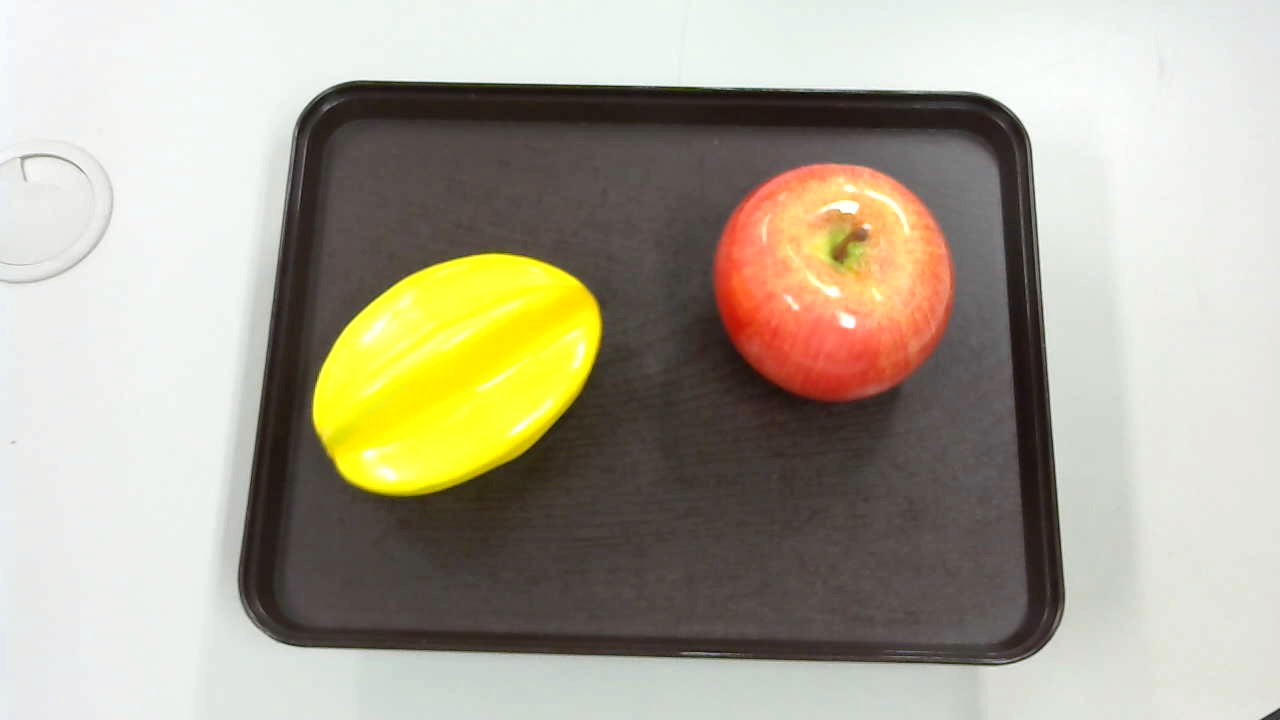red apple: (710, 158, 952, 400)
star fruit: (310, 253, 603, 497)
